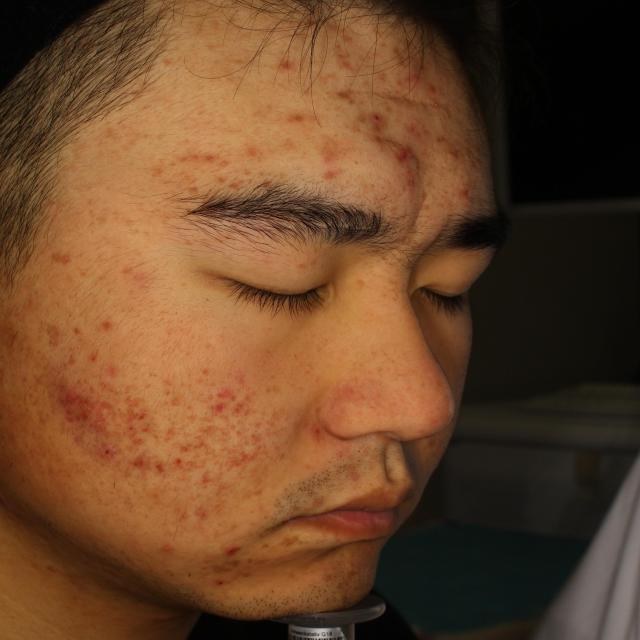papule: (123, 438, 177, 481), (221, 439, 287, 474), (216, 543, 270, 581), (286, 100, 330, 143), (390, 147, 432, 190), (174, 144, 213, 188), (192, 468, 239, 498), (126, 397, 155, 439), (90, 309, 128, 336), (168, 422, 200, 452), (79, 442, 114, 467), (450, 174, 478, 204), (363, 118, 391, 148), (427, 130, 456, 157), (210, 380, 234, 412), (273, 55, 300, 80), (40, 314, 68, 338), (409, 114, 435, 139), (312, 140, 330, 173), (154, 540, 187, 558), (333, 83, 352, 105)
